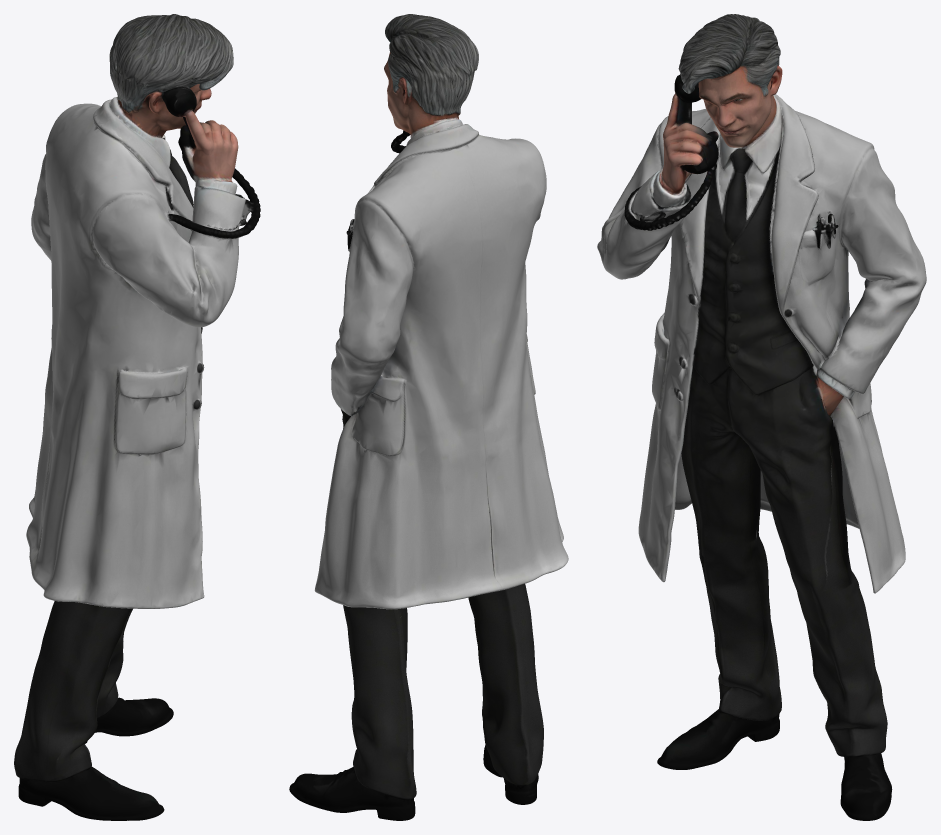
The picture shows the model from 3 angles, left to right: view 1: azimuth 30°, elevation 25°; view 2: azimuth 150°, elevation 25°; view 3: azimuth 270°, elevation 25°; orthographic projection. The views are drawn at different scales.
Parts seen in each view (by area): view 1: tripo_node_d54ea99b-68ad-44d2-9fef-0cdc72468496; view 2: tripo_node_d54ea99b-68ad-44d2-9fef-0cdc72468496; view 3: tripo_node_d54ea99b-68ad-44d2-9fef-0cdc72468496.
Boxes of the visible parts, x1,y1,x2,y2 form: tripo_node_d54ea99b-68ad-44d2-9fef-0cdc72468496: [14, 14, 260, 820]; tripo_node_d54ea99b-68ad-44d2-9fef-0cdc72468496: [289, 14, 568, 820]; tripo_node_d54ea99b-68ad-44d2-9fef-0cdc72468496: [597, 14, 926, 820].
Bounding box in the file's own units: 0.2799 × 1 × 0.3887.
Materials: 1 (1 with a texture image).
